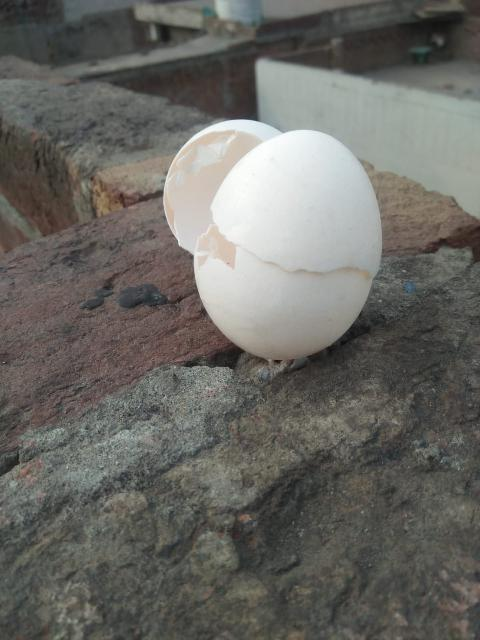Roto: (163, 117, 384, 360)
